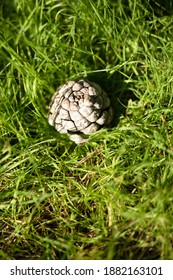Pc: (45, 78, 112, 143)
